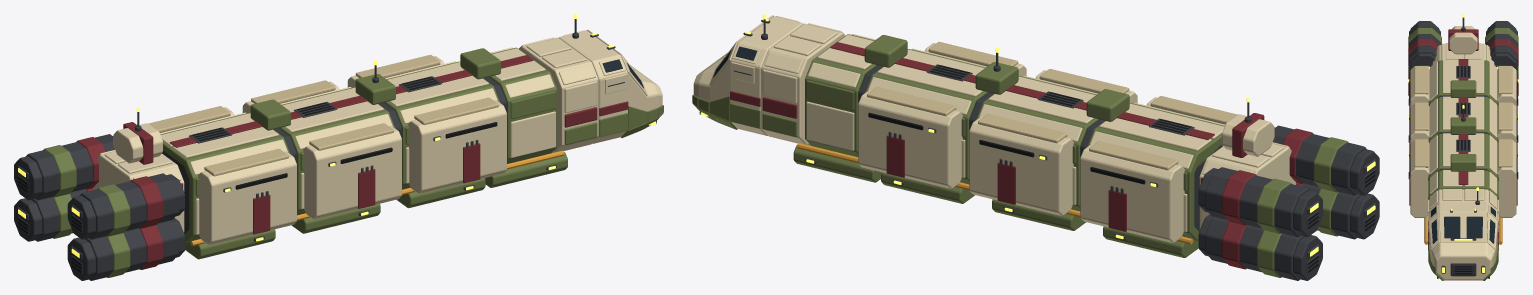
The model's file is prison.glb.
The picture shows the model from 3 angles, left to right: view 1: azimuth 30°, elevation 25°; view 2: azimuth 150°, elevation 25°; view 3: azimuth 270°, elevation 25°; orthographic projection. The views are drawn at different scales.
Visible parts, largest first — view 1: hull body, drive body; view 2: hull body, drive body; view 3: hull body, drive body.
Boxes of the visible parts, x1=… form: hull body: x1=93, y1=19, x2=663, y2=259; drive body: x1=14, y1=134, x2=184, y2=280; hull body: x1=692, y1=15, x2=1296, y2=257; drive body: x1=1198, y1=125, x2=1379, y2=280; hull body: x1=1408, y1=17, x2=1518, y2=280; drive body: x1=1408, y1=21, x2=1518, y2=98.
Bounding box in the file's own units: 17.39 × 4.14 × 3.88.
